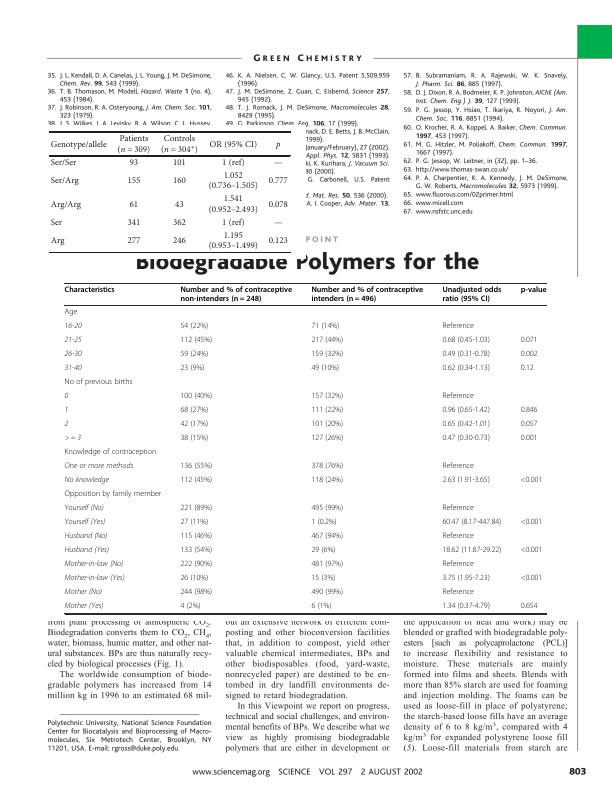borderless: (63, 282, 546, 613), (49, 130, 291, 253)
cell: (179, 286, 293, 304), (310, 286, 424, 304), (441, 286, 502, 304), (207, 171, 258, 192), (207, 194, 258, 215), (207, 231, 258, 252), (64, 490, 162, 500), (64, 448, 157, 458), (160, 134, 199, 155), (116, 134, 151, 155), (64, 378, 133, 388), (49, 139, 107, 150), (64, 462, 134, 471), (441, 518, 502, 528), (441, 546, 502, 556), (64, 574, 126, 583), (208, 139, 258, 150), (64, 560, 124, 569), (441, 336, 491, 346), (441, 350, 491, 360), (441, 364, 491, 374), (441, 406, 491, 416), (441, 420, 491, 430), (441, 434, 491, 444), (441, 476, 491, 486), (441, 574, 491, 584), (441, 602, 491, 612), (64, 286, 116, 295), (64, 476, 110, 486), (64, 546, 110, 555), (64, 532, 108, 541), (64, 518, 106, 527), (64, 504, 105, 513), (49, 199, 82, 210), (64, 602, 104, 611), (64, 588, 103, 597), (441, 322, 475, 332), (179, 336, 213, 346), (310, 336, 344, 346), (310, 350, 344, 360), (179, 392, 213, 402), (310, 392, 344, 402), (441, 392, 475, 402), (310, 406, 344, 416), (310, 420, 344, 430), (310, 434, 344, 444), (179, 462, 213, 472), (310, 462, 344, 472), (441, 462, 475, 472), (179, 476, 213, 486), (310, 476, 344, 486), (179, 504, 213, 514), (310, 504, 344, 514), (441, 504, 475, 514), (179, 532, 213, 542), (310, 532, 344, 542), (441, 532, 475, 542), (179, 546, 213, 556), (179, 560, 213, 570), (310, 560, 344, 570), (441, 560, 475, 570), (179, 588, 213, 598), (310, 588, 344, 598), (441, 588, 475, 598), (49, 176, 79, 186), (179, 322, 209, 332), (310, 322, 340, 332), (179, 350, 209, 360), (310, 364, 340, 374), (179, 406, 209, 416), (179, 420, 209, 430), (179, 434, 209, 444), (179, 518, 209, 528), (179, 574, 209, 584), (49, 158, 77, 168), (310, 518, 338, 528), (179, 364, 205, 374), (310, 546, 336, 556), (310, 574, 336, 584), (520, 286, 547, 295), (221, 158, 245, 168), (221, 218, 245, 228), (267, 199, 288, 210), (267, 236, 288, 247), (520, 476, 543, 486), (520, 518, 543, 528), (520, 546, 543, 556), (520, 574, 543, 584), (179, 602, 201, 612), (310, 602, 332, 612), (267, 176, 288, 186), (520, 336, 538, 346), (520, 350, 538, 360), (520, 406, 538, 416), (520, 420, 538, 430), (520, 434, 538, 444), (520, 602, 538, 612), (49, 236, 65, 247), (126, 236, 141, 247), (172, 236, 187, 247), (64, 322, 82, 331), (64, 336, 82, 345), (64, 350, 82, 359), (64, 364, 82, 373), (64, 434, 82, 443), (172, 158, 187, 168), (126, 176, 141, 186), (172, 176, 187, 186), (126, 218, 141, 228), (172, 218, 187, 228), (520, 364, 535, 374), (49, 218, 63, 228), (64, 308, 78, 318), (128, 199, 139, 210), (128, 158, 139, 168), (174, 199, 184, 210), (275, 141, 281, 150), (64, 392, 69, 401), (64, 406, 69, 415), (64, 420, 69, 429), (273, 162, 283, 166), (273, 222, 283, 226)
